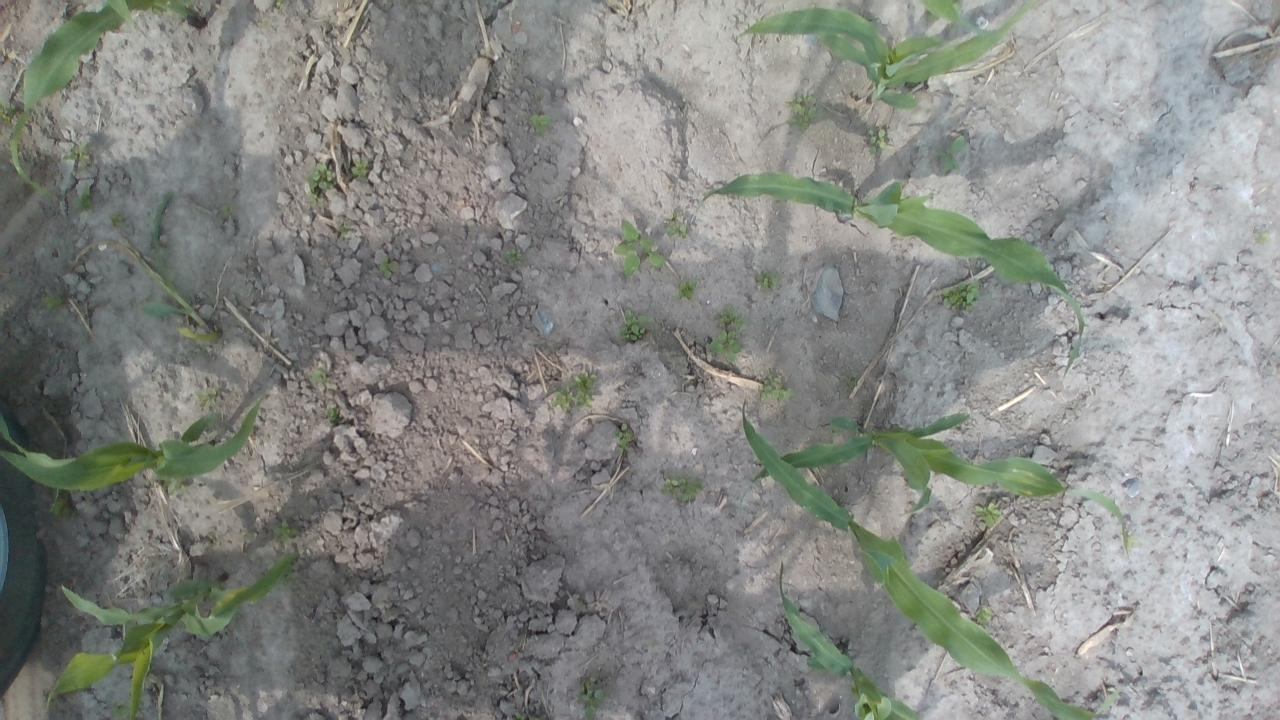Maize: (740, 408, 1126, 719), (687, 170, 1085, 388), (746, 408, 1136, 560), (40, 549, 301, 720), (7, 0, 213, 200), (732, 0, 1056, 114), (0, 395, 265, 490), (778, 559, 929, 719)
Weeds: (614, 218, 689, 282), (706, 306, 748, 360), (552, 368, 595, 410), (943, 278, 979, 314), (935, 136, 975, 168), (307, 164, 338, 201), (577, 682, 603, 718), (666, 476, 701, 502), (790, 96, 816, 127), (760, 375, 786, 398), (866, 130, 890, 154), (976, 502, 1000, 520), (66, 147, 96, 161), (50, 491, 68, 513), (532, 112, 550, 132), (976, 610, 994, 629), (1258, 225, 1274, 243), (39, 292, 61, 305), (756, 275, 774, 289), (378, 260, 390, 278), (618, 430, 631, 446), (508, 249, 522, 261), (355, 160, 365, 176), (312, 371, 326, 381), (680, 283, 694, 293), (330, 405, 340, 417)
